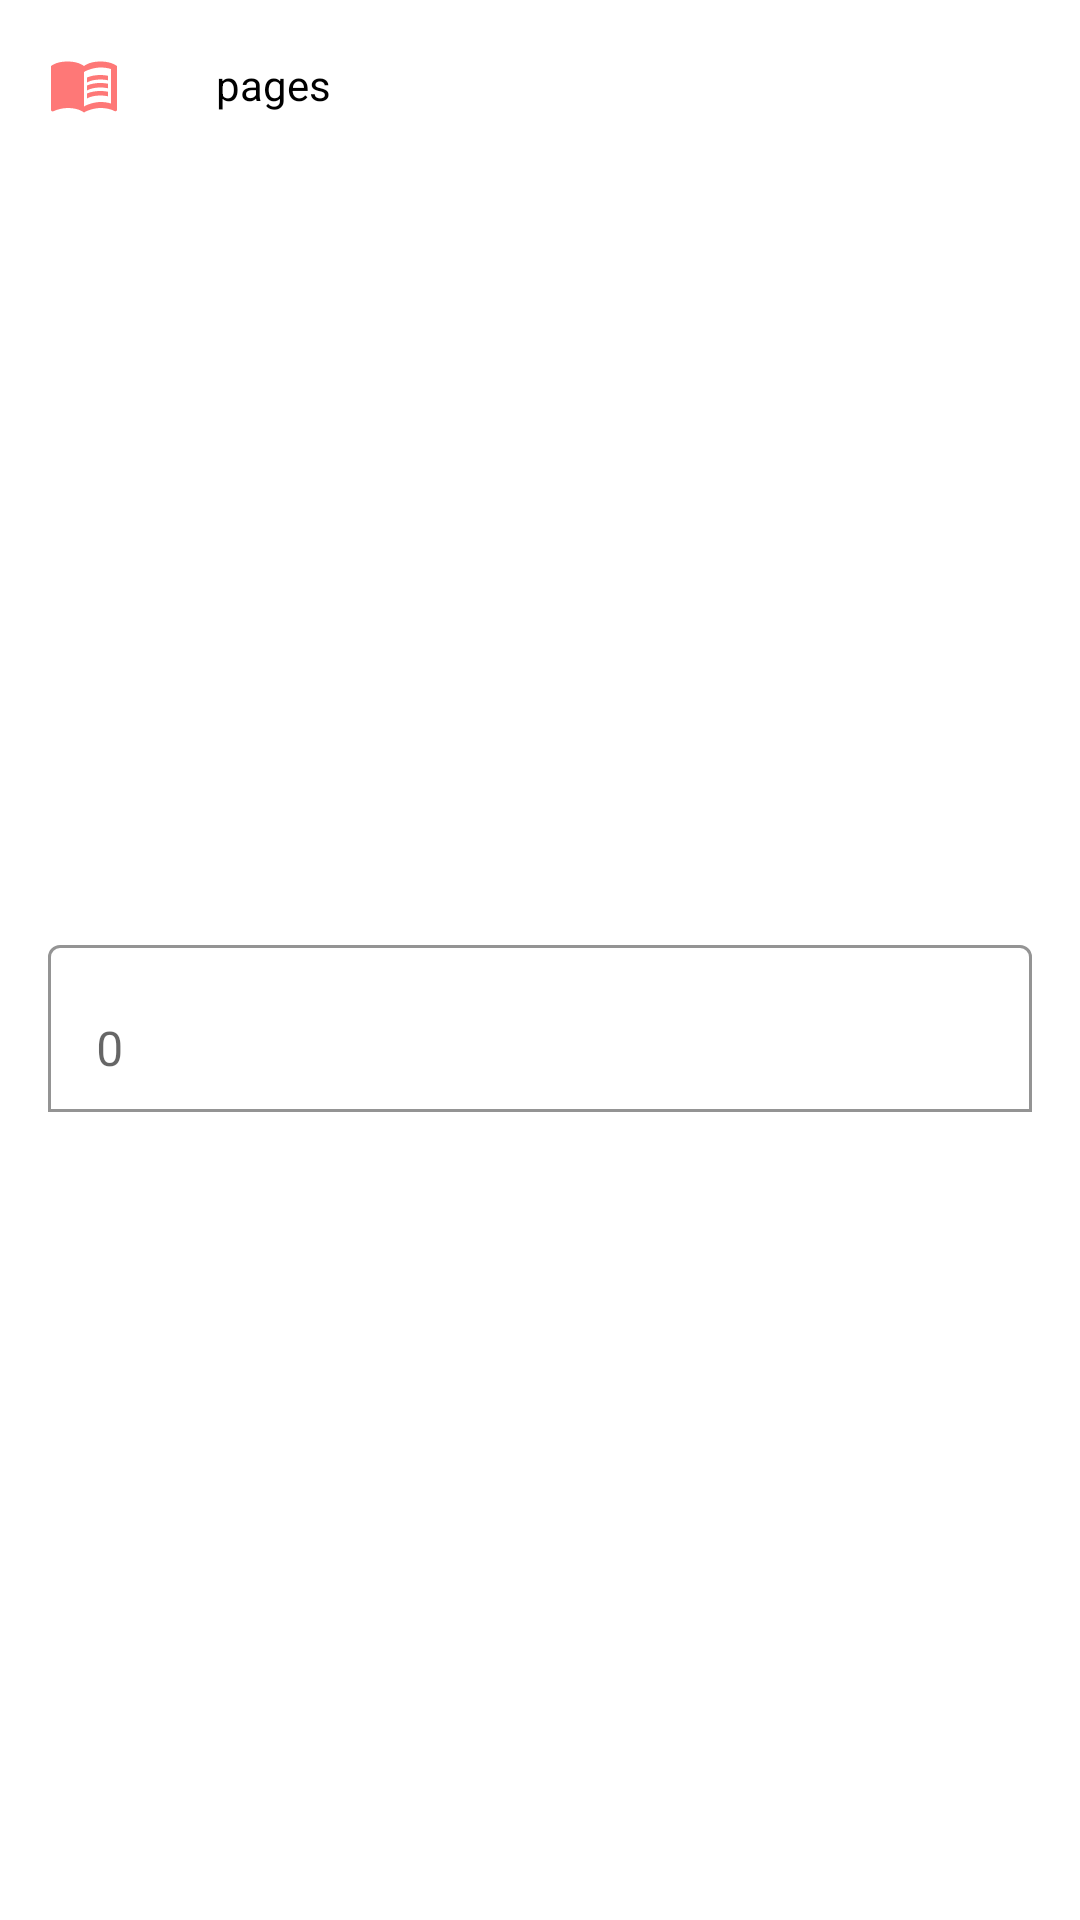

Icons on this 1080 x 1920 Android screen, each with its box as (x1, y1, x2, y2):
book: (51, 61, 117, 113)
